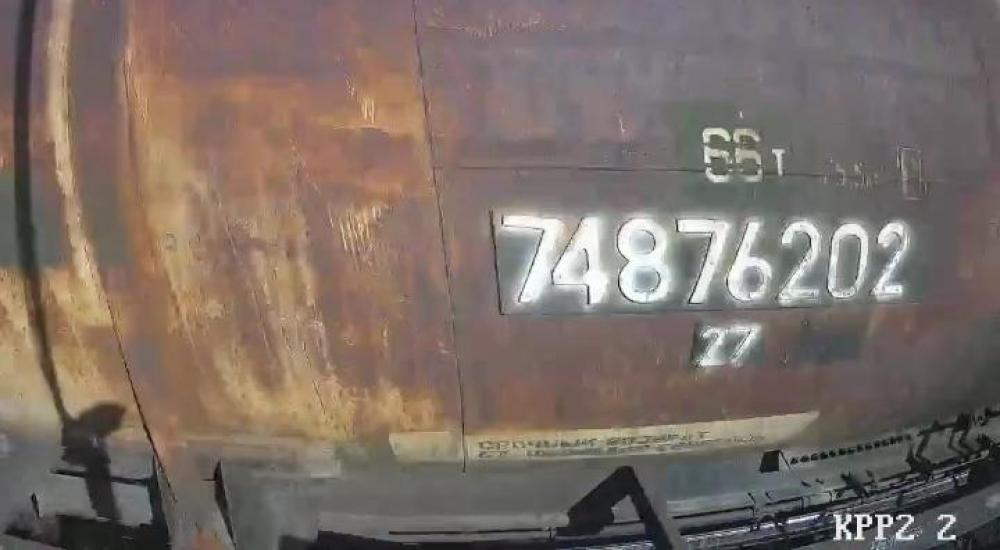Wagon-number: (499, 213, 912, 305)
